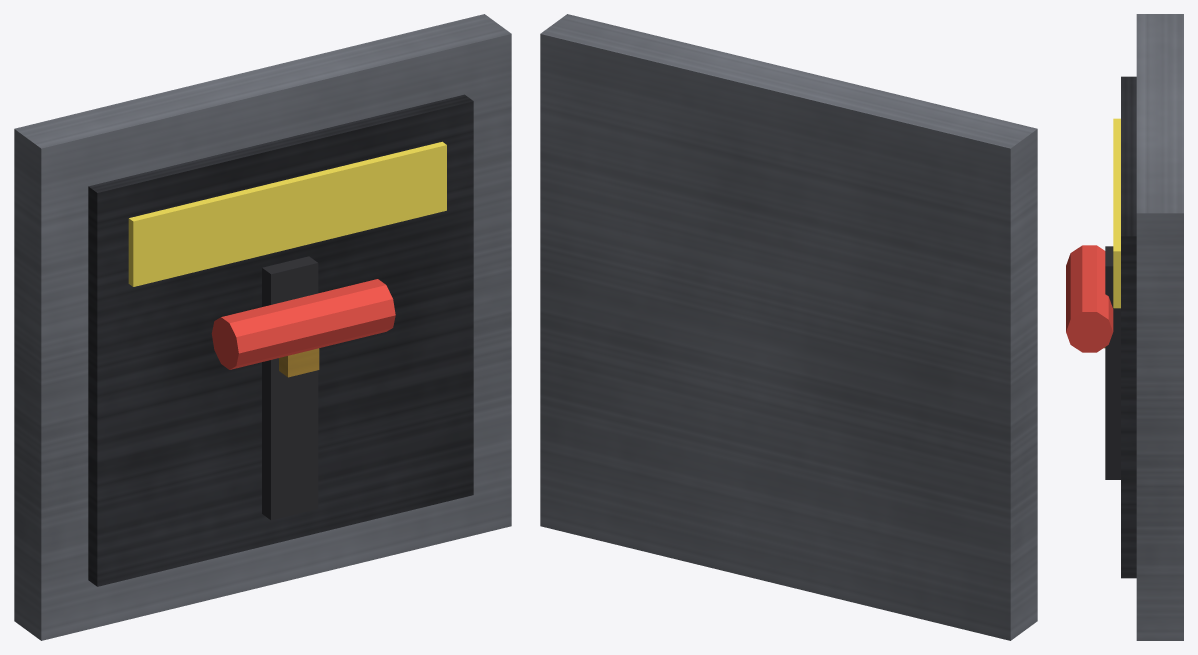
Rendered from Breaker.fbx.
3 views of the same model, side by side, from view 1: azimuth 30°, elevation 25°; view 2: azimuth 150°, elevation 25°; view 3: azimuth 270°, elevation 25° (orthographic). The views are drawn at different scales.
Visible parts, largest first — view 1: Breaker; view 2: Breaker; view 3: Breaker.
Part boxes in pixels (left/top/right/bottom): Breaker: left=14, top=14, right=511, bottom=640; Breaker: left=540, top=14, right=1037, bottom=640; Breaker: left=1066, top=14, right=1183, bottom=640.
Bounding box in the file's own units: 0.6 × 0.6 × 0.15.
6 materials, 3 textured.
